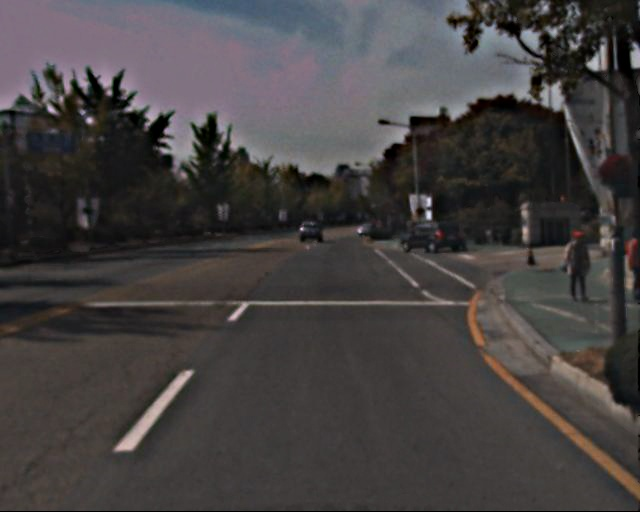person: (557, 229, 593, 304)
